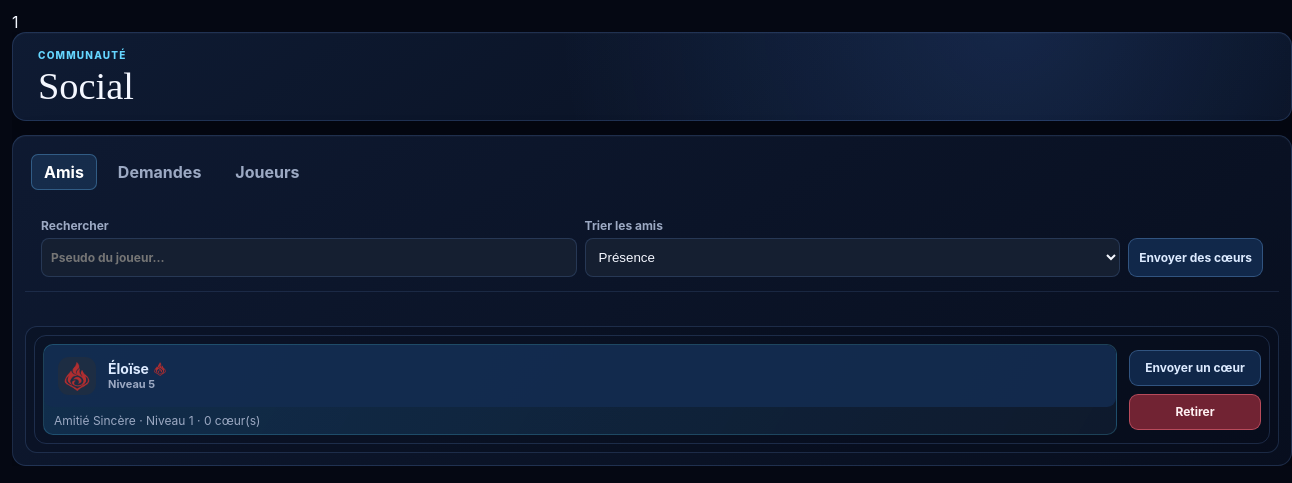
Friendship UI and shared projection › releases a confirmed heart immediately and keeps success when the secondary read fails
The width and height of the screenshot is (1292, 483).
Click the button "Envoyer des cœurs" at (1196, 258), box [1128, 238, 1263, 277]
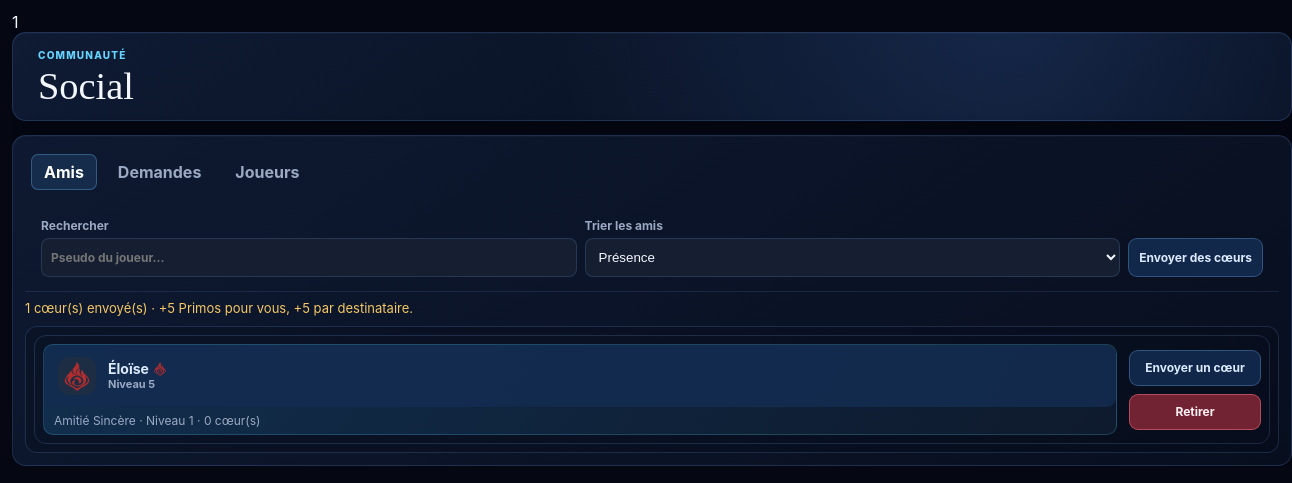
Expected: the text "+5 Primos" is shown, [25, 300, 413, 316]
